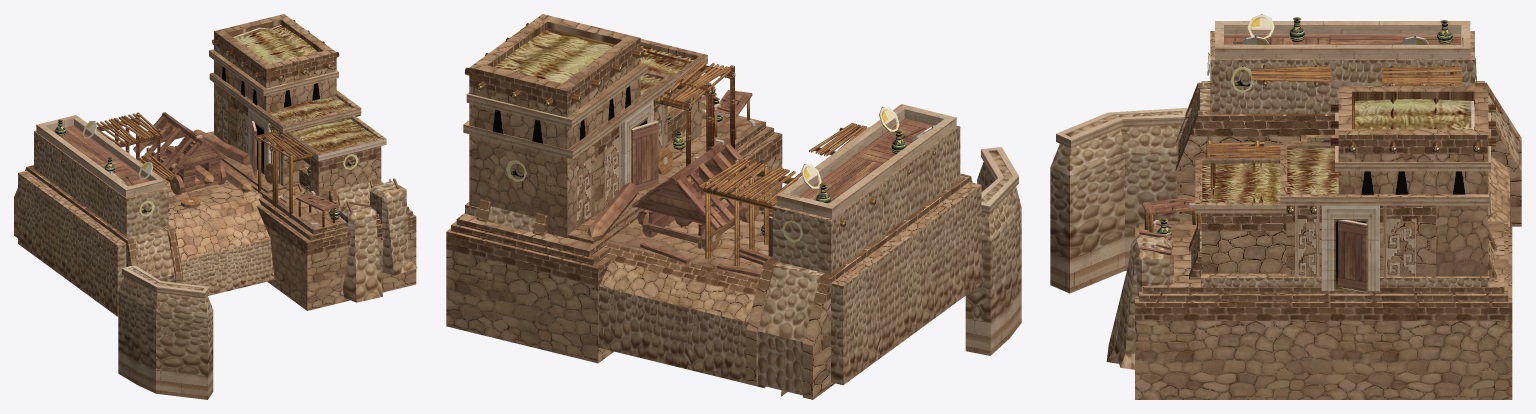
File: zapo_workshop.dae
The picture shows the model from 3 angles, left to right: view 1: azimuth 30°, elevation 25°; view 2: azimuth 150°, elevation 25°; view 3: azimuth 270°, elevation 25°; orthographic projection. The views are drawn at different scales.
Parts seen in each view (by area): view 1: WS.003; view 2: WS.003; view 3: WS.003.
Boxes of the visible parts, left/top/right/bottom form: WS.003: left=14, top=14, right=417, bottom=399; WS.003: left=446, top=14, right=1021, bottom=399; WS.003: left=1050, top=14, right=1521, bottom=399.
Bounding box in the file's own units: 27.7 × 28.17 × 20.46.
